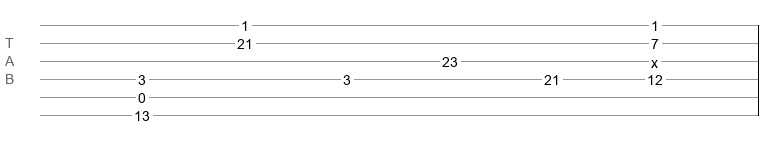0: (138, 90, 146, 100)
1: (241, 18, 249, 28), (651, 18, 659, 28)
12: (647, 72, 663, 82)
13: (134, 108, 150, 118)
21: (237, 36, 253, 46), (544, 72, 560, 82)
23: (442, 54, 458, 64)
3: (138, 72, 146, 82), (343, 72, 351, 82)
7: (651, 36, 659, 46)
x: (651, 55, 658, 63)
